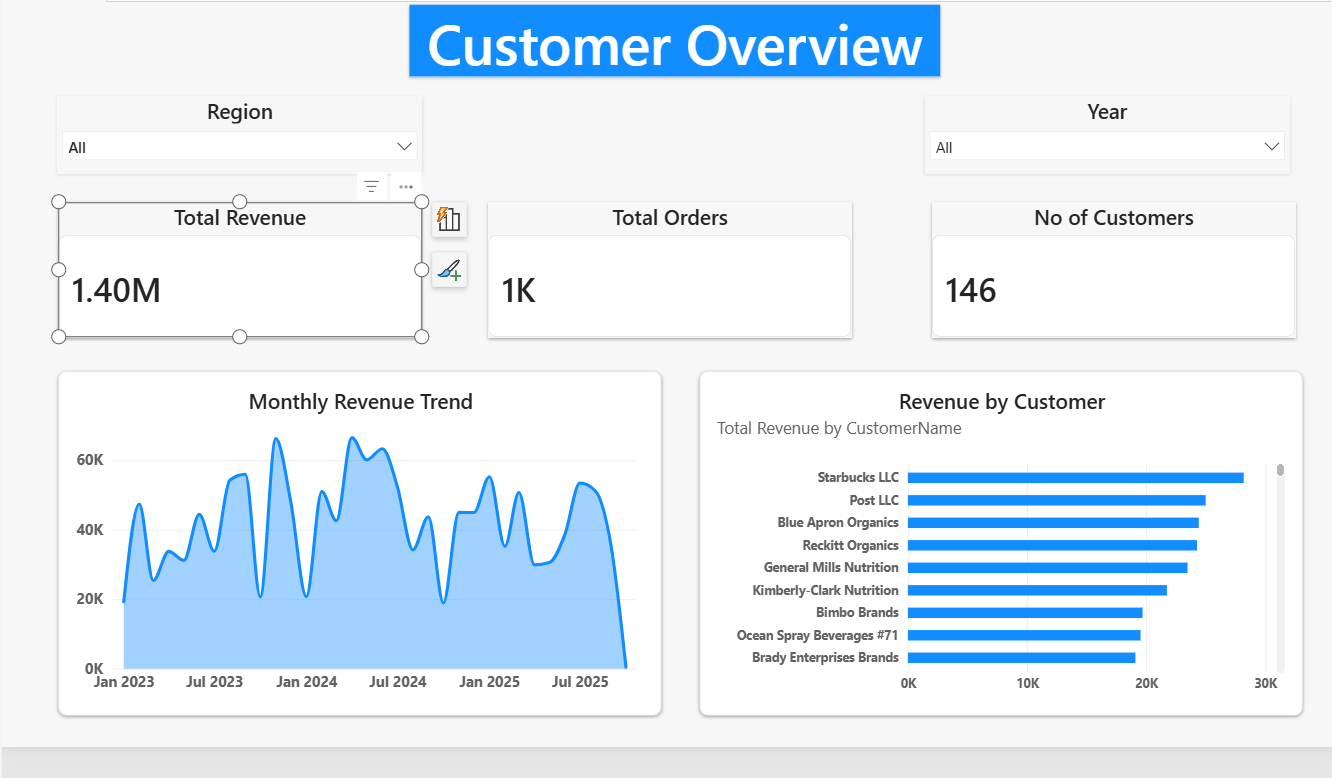

The dashboard page shown, as its layout file describes it:
{"tool":"powerbi","page":{"name":"Customer Overview","canvas":[1280,720],"ordinal":0},"visuals":[{"type":"barChart","title":"Revenue by Customer","fields":{"Category":["dim_Customers.CustomerName"],"Y":["_Measures.Total Revenue"]},"box":[669.2,359.8,578.5,330.6],"z":0},{"type":"slicer","title":"Region","fields":{"Values":["dim_Customers.Region"]},"box":[52.4,95.7,350.7,74.6],"z":1000},{"type":"lineChart","title":"Monthly Revenue Trend","fields":{"Category":["dim_Date.YearMonth"],"Y":["_Measures.Total Revenue"]},"box":[54.4,359.8,578.5,330.6],"z":2000},{"type":"cardVisual","title":"Total Revenue","fields":{"Data":["_Measures.Total Revenue"]},"box":[54.4,197.5,348.7,130],"z":3000},{"type":"cardVisual","title":"Total Orders","fields":{"Data":["_Measures.Total Orders"]},"box":[465.6,197.5,348.7,130],"z":4000},{"type":"cardVisual","title":"No of Customers","fields":{"Data":["_Measures.Total Customers"]},"box":[892,197.5,348.7,130],"z":5000},{"type":"slicer","title":"Year","fields":{"Values":["dim_Date.Year"]},"box":[884.9,95.7,350.7,74.6],"z":6000},{"type":"shape","title":"Customer Overview","box":[391.1,8.1,509,68.5],"z":7000}]}

Visuals, with their boxes on the page's 1280x720 design canvas (x1, y1, x2, y2). These are canvas units, not pixel positions in the 1332x778 screenshot, which may show the page scaled, cropped or inside an application window:
"Revenue by Customer" barChart: {"x1": 669, "y1": 360, "x2": 1248, "y2": 690}
"Region" slicer: {"x1": 52, "y1": 96, "x2": 403, "y2": 170}
"Monthly Revenue Trend" lineChart: {"x1": 54, "y1": 360, "x2": 633, "y2": 690}
"Total Revenue" cardVisual: {"x1": 54, "y1": 198, "x2": 403, "y2": 328}
"Total Orders" cardVisual: {"x1": 466, "y1": 198, "x2": 814, "y2": 328}
"No of Customers" cardVisual: {"x1": 892, "y1": 198, "x2": 1241, "y2": 328}
"Year" slicer: {"x1": 885, "y1": 96, "x2": 1236, "y2": 170}
"Customer Overview" shape: {"x1": 391, "y1": 8, "x2": 900, "y2": 77}
